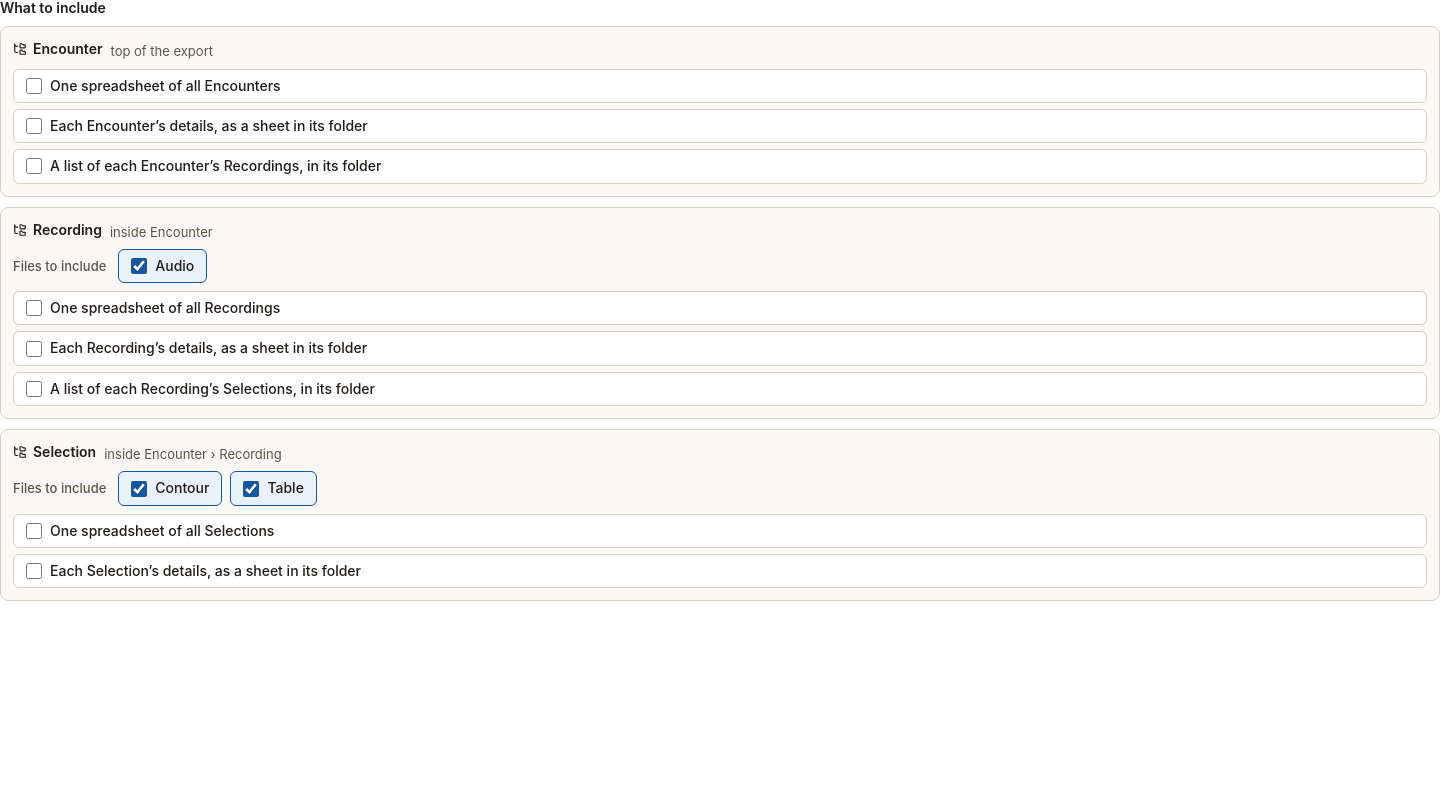
Test: choosing columns, on the table’s own row › says when no column is left, since a table needs one
Click the checkbox labelled "One spreadsheet of all Selections". click: (34, 531)
box: x1=26 y1=523 x2=42 y2=539
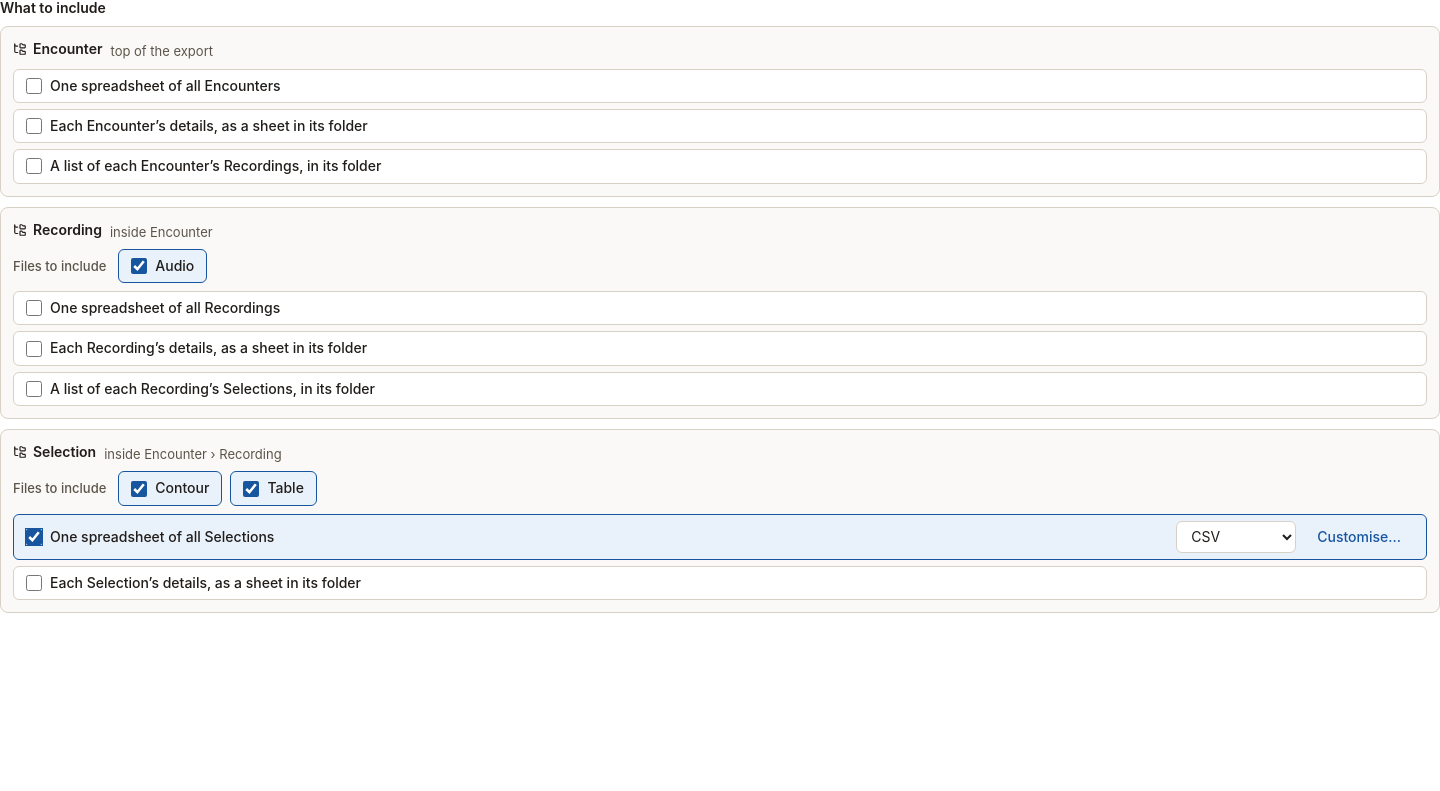
Click the button "Customise…". click: (1359, 537)
box: x1=1304 y1=521 x2=1414 y2=553
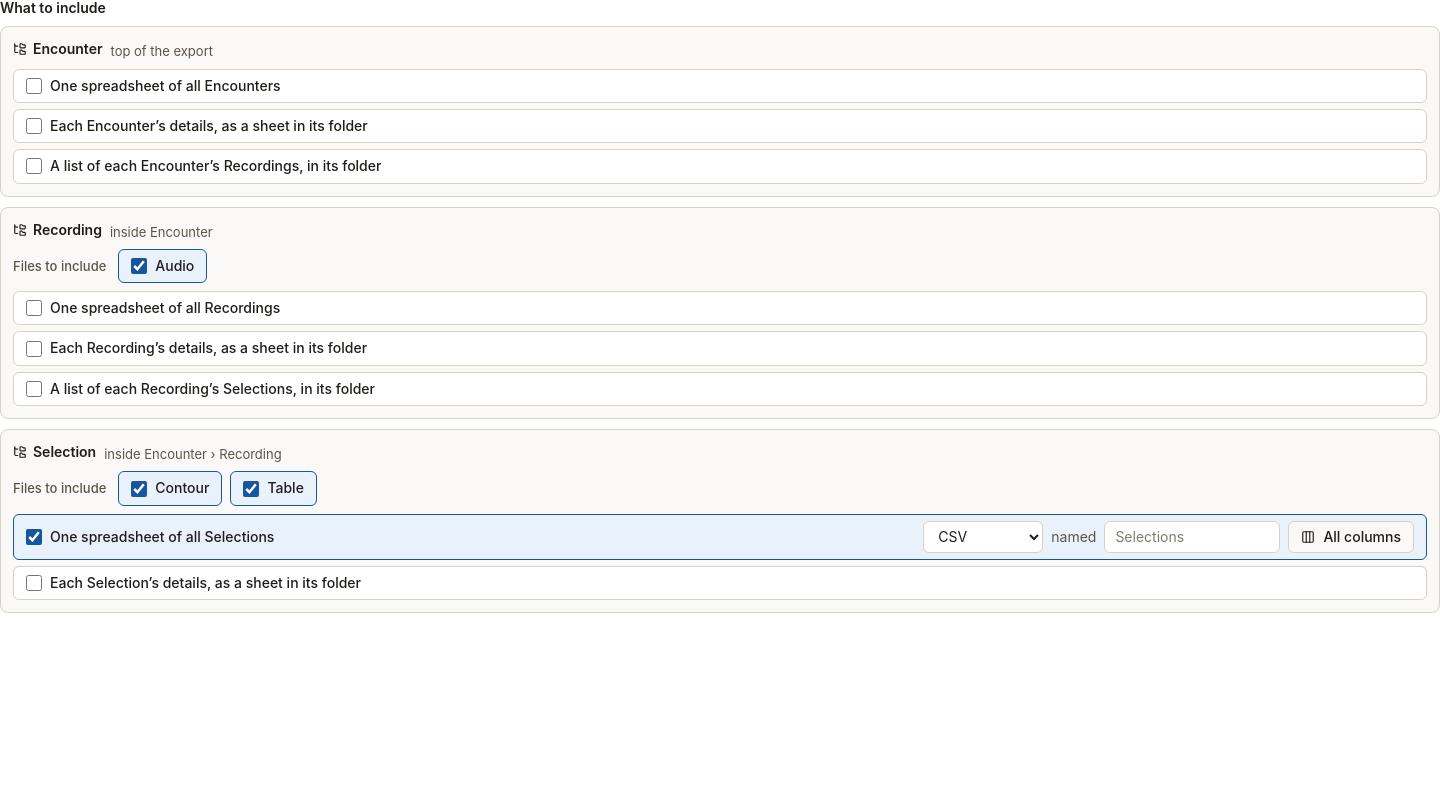
Click the button "All columns". click: (1351, 537)
box: x1=1288 y1=521 x2=1414 y2=553
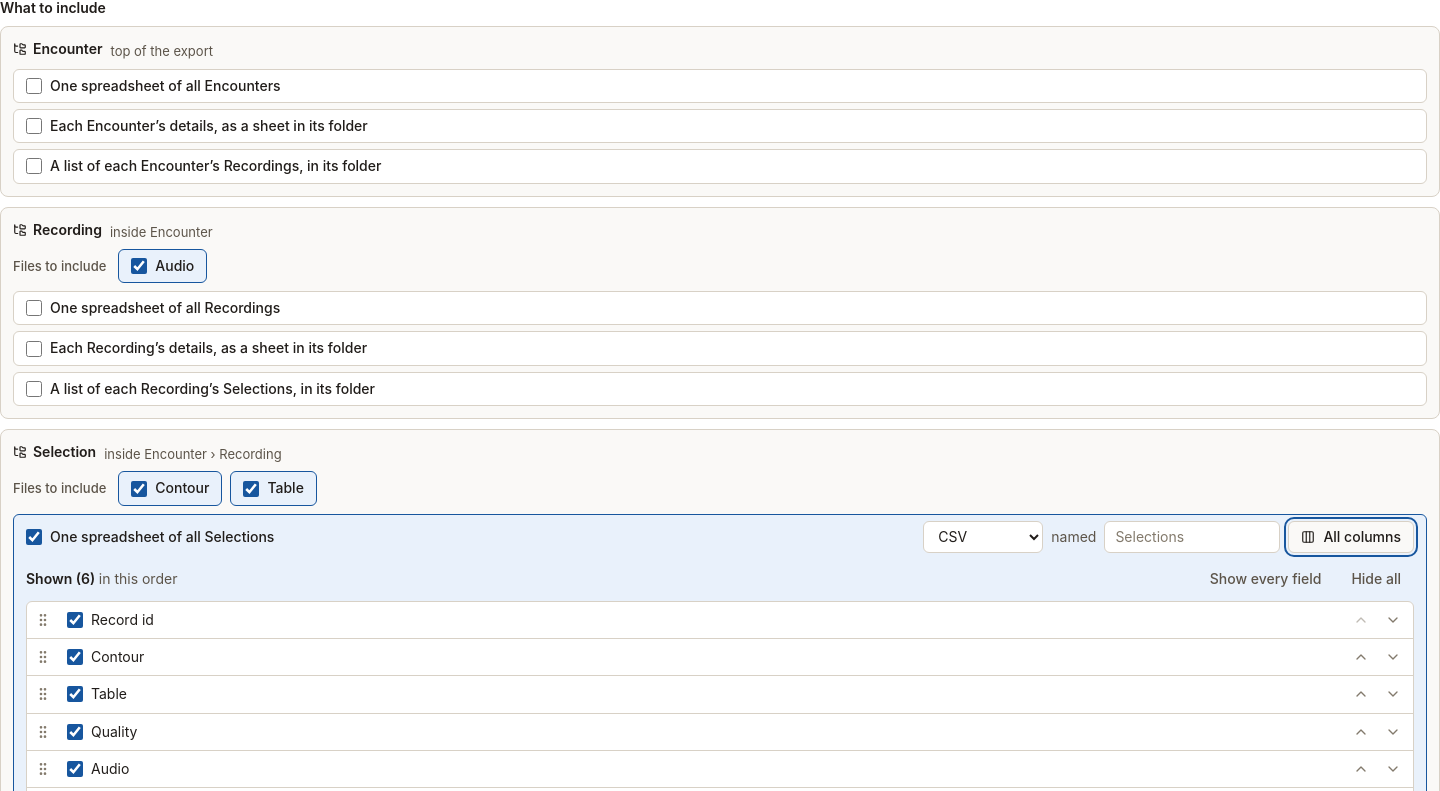
Click the button "Hide all". click: (1376, 579)
box: x1=1338 y1=563 x2=1414 y2=595
(page scrolled)
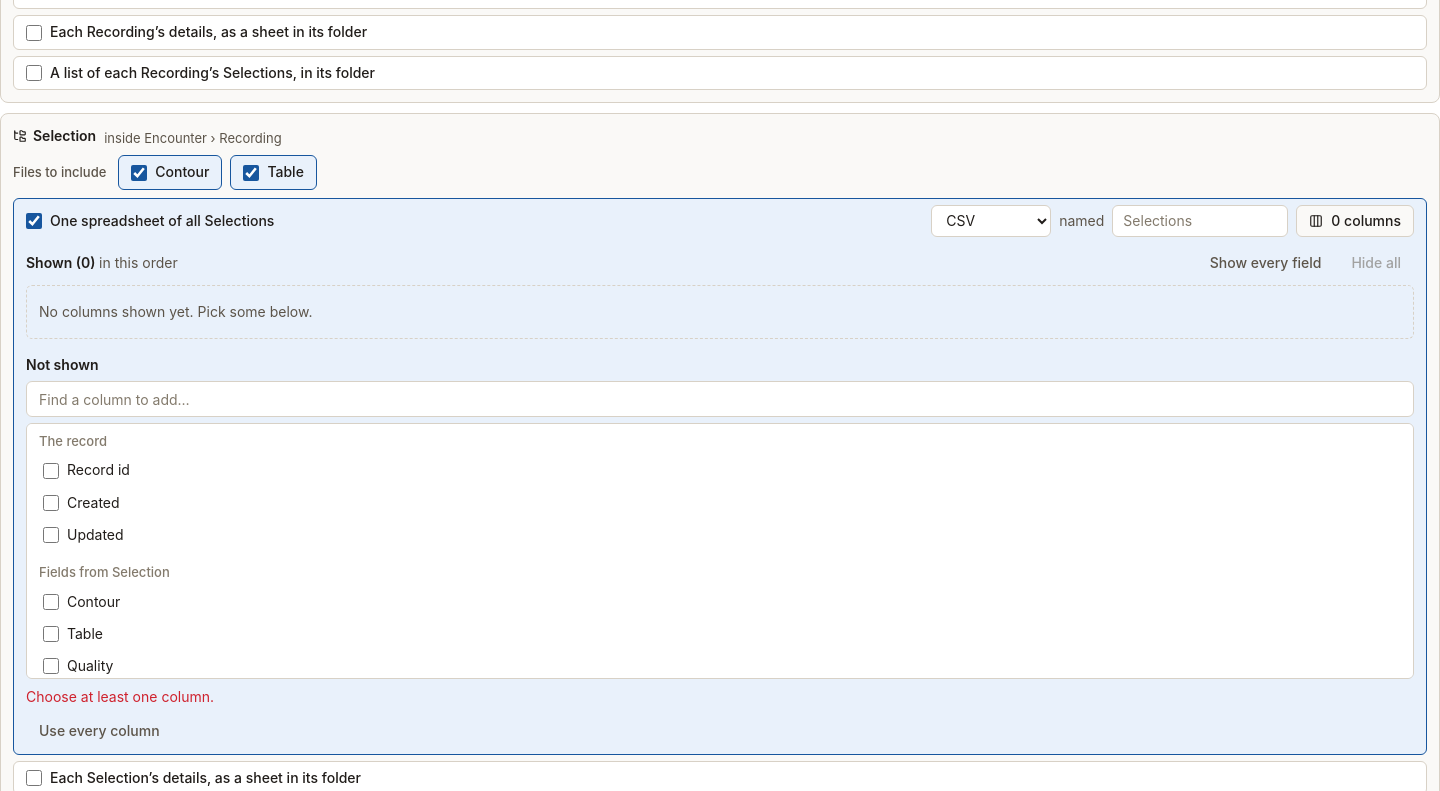
expect the text "Choose at least one column." is shown: met, box x1=26 y1=688 x2=214 y2=705
